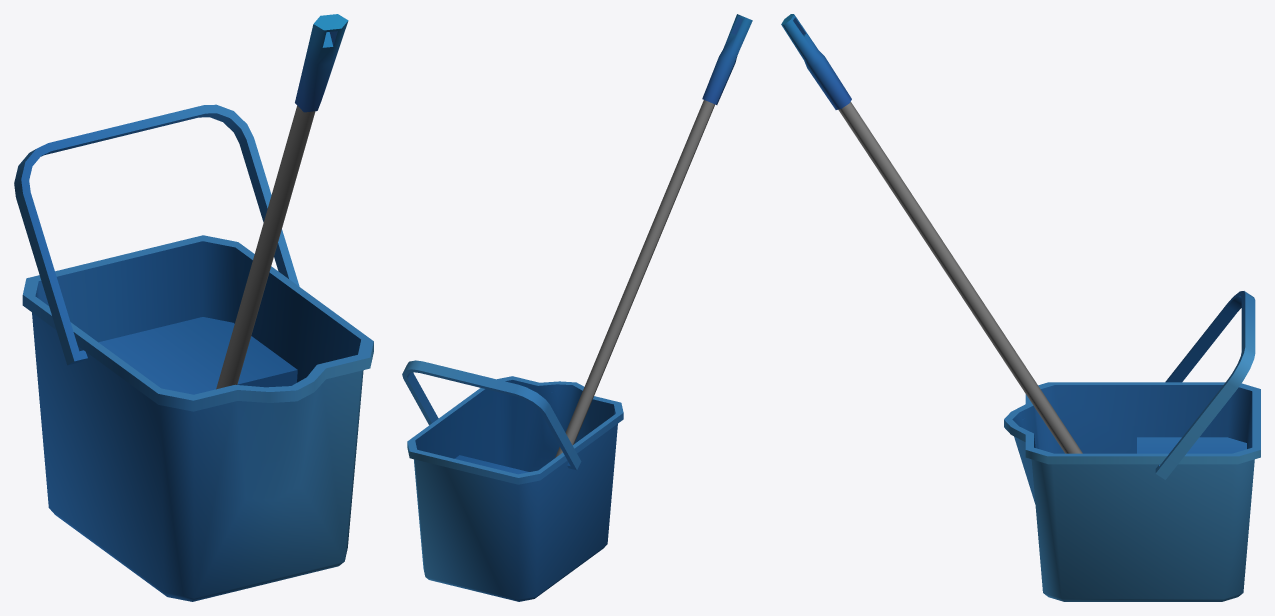
Rendered from CR_MopSet.FBX.
3 views of the same model, side by side, from view 1: azimuth 30°, elevation 25°; view 2: azimuth 150°, elevation 25°; view 3: azimuth 270°, elevation 25° (orthographic). The views are drawn at different scales.
Parts seen in each view (by area): view 1: CR_MopSet; view 2: CR_MopSet; view 3: CR_MopSet.
Boxes of the visible parts, x1=… form: CR_MopSet: x1=14, y1=14, x2=373, y2=601; CR_MopSet: x1=402, y1=14, x2=752, y2=601; CR_MopSet: x1=781, y1=14, x2=1260, y2=601.
Size of the model in its own units: 13.02 by 36.31 by 30.68.
